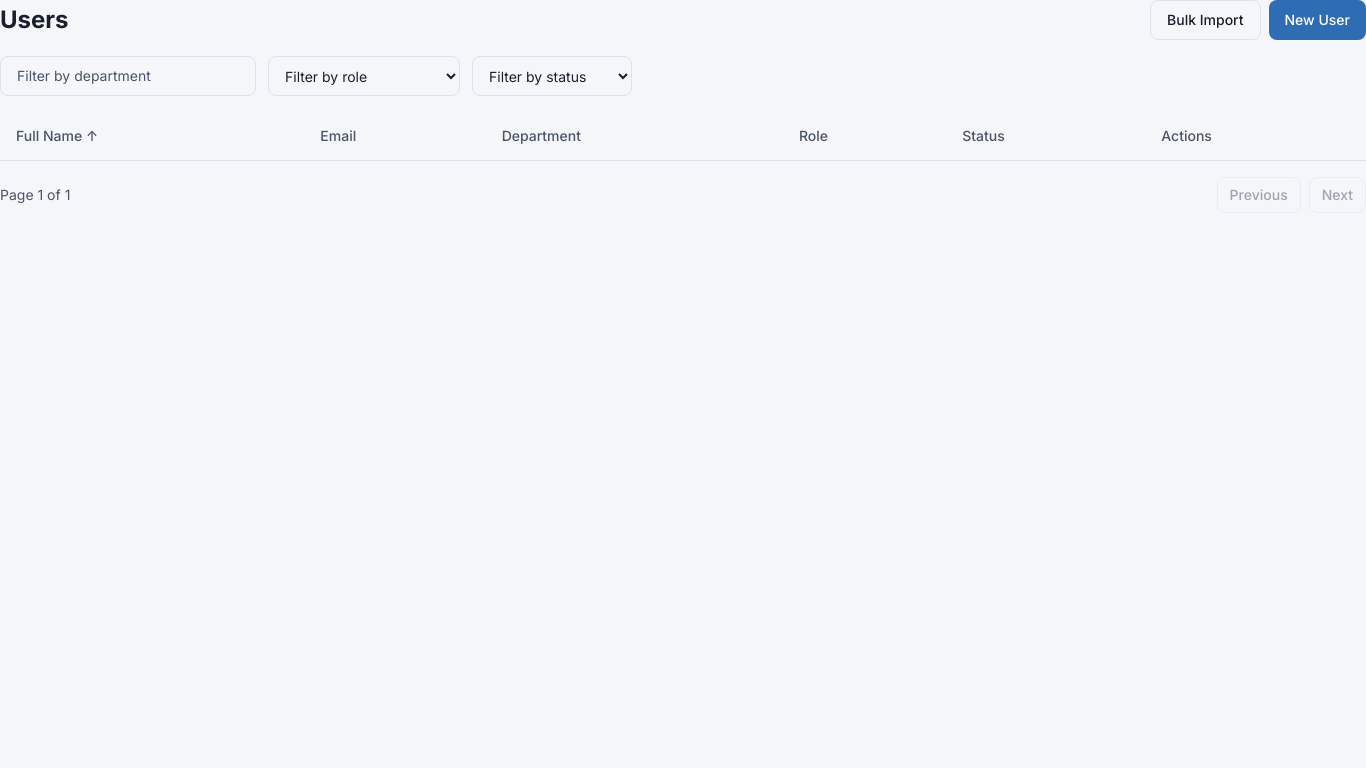
admin UsersListPage department filter (FR-BB317.4) › shows nested departments in the tree and filters users by the chosen id
Click the dropdown labelled "Filter by department" at (128, 76), box left=0, top=56, right=256, bottom=96
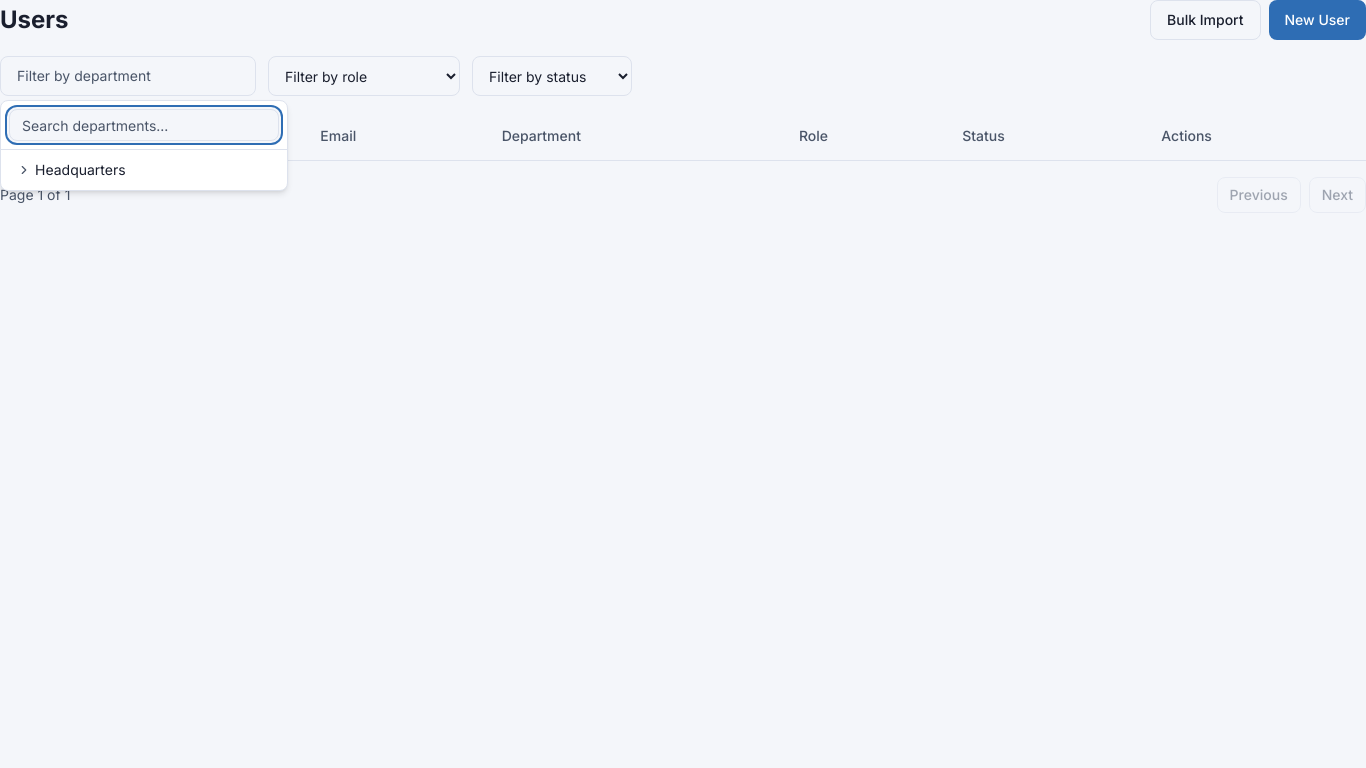
Expected: the text "Engineering" is not shown
Now the text "Headquarters" is shown, box left=35, top=160, right=126, bottom=180
Type "Engin" into the field labelled "Search departments..." at (144, 125), box left=9, top=109, right=279, bottom=141
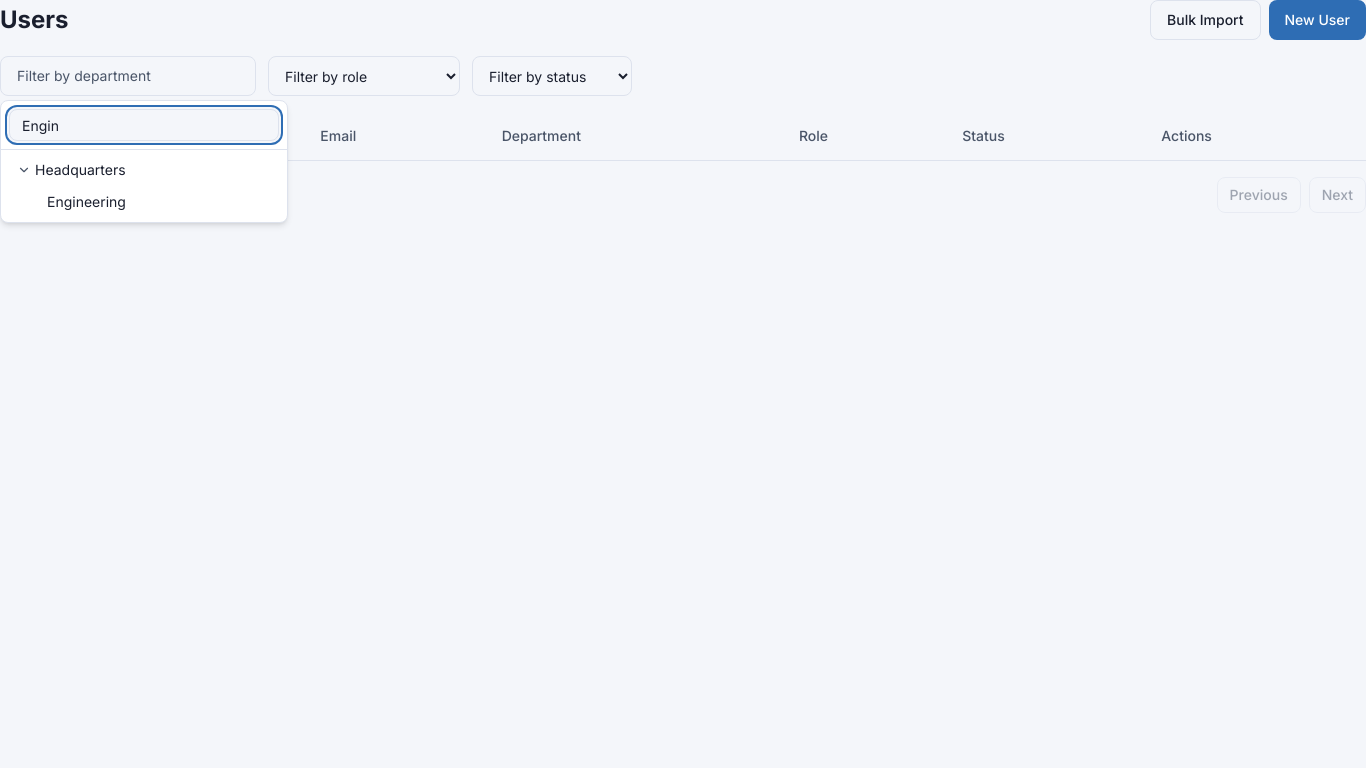
Click the text "Engineering" at (86, 202), box left=47, top=192, right=126, bottom=212
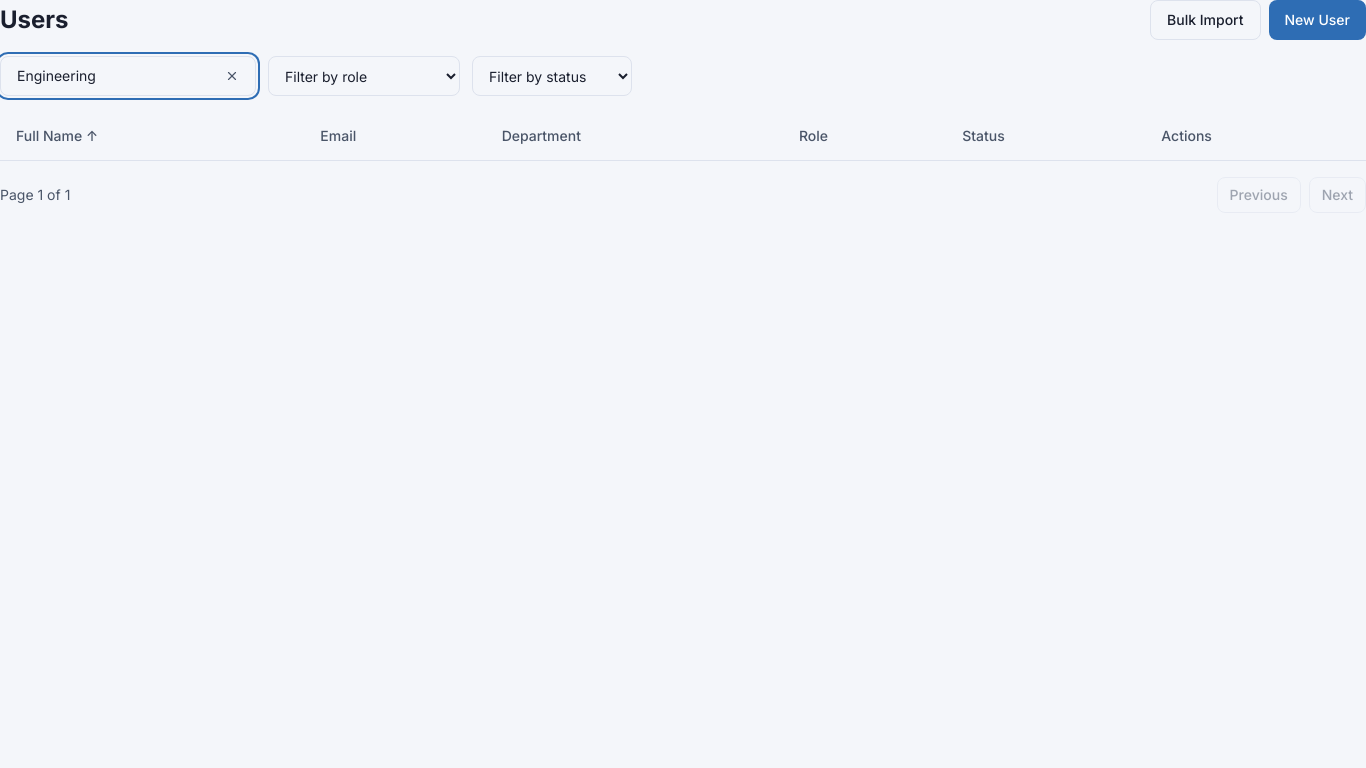
Now the dropdown named "department" reads "Engineering", box left=0, top=56, right=256, bottom=96
